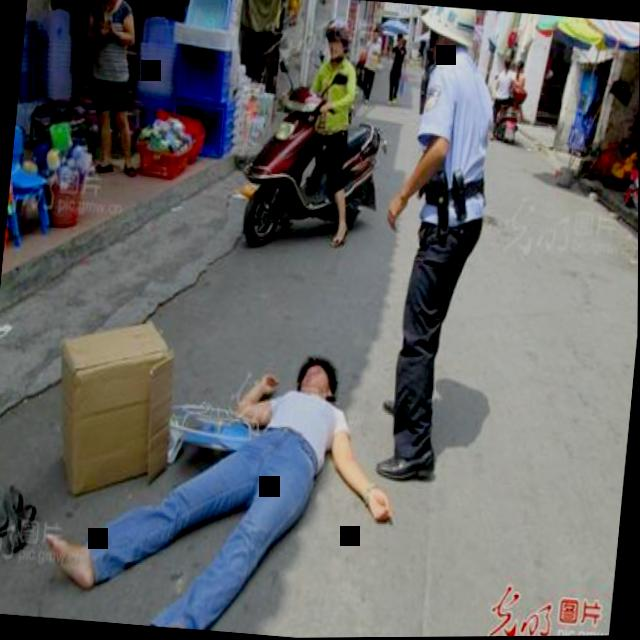Fall-Detected: (2, 315, 411, 640)
